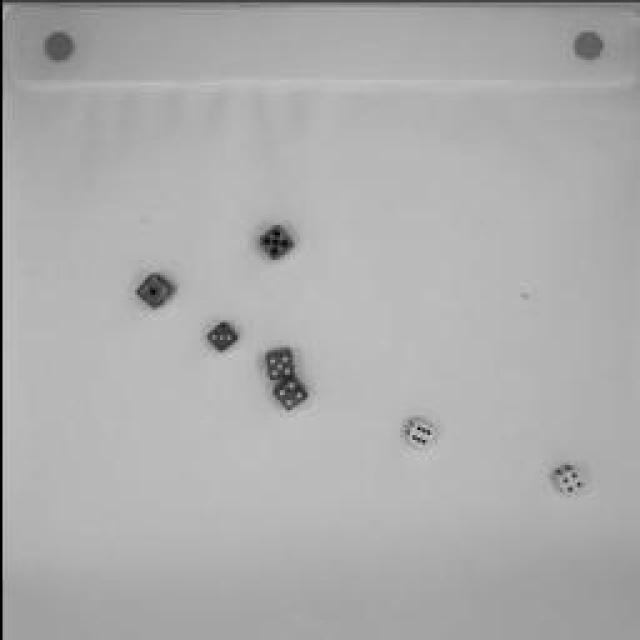dice_1: (130, 268, 175, 312)
dice_3: (205, 318, 237, 352)
dice_4: (540, 460, 585, 500), (268, 376, 308, 412)
dice_5: (252, 220, 298, 265), (260, 345, 295, 380)
dice_6: (400, 414, 438, 448)
